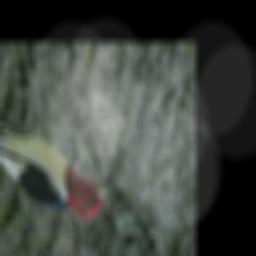Woodpecker: (0, 99, 118, 228)
